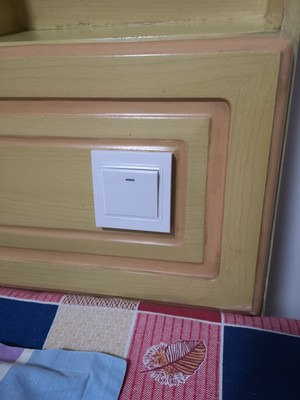switch: (100, 159, 162, 221)
